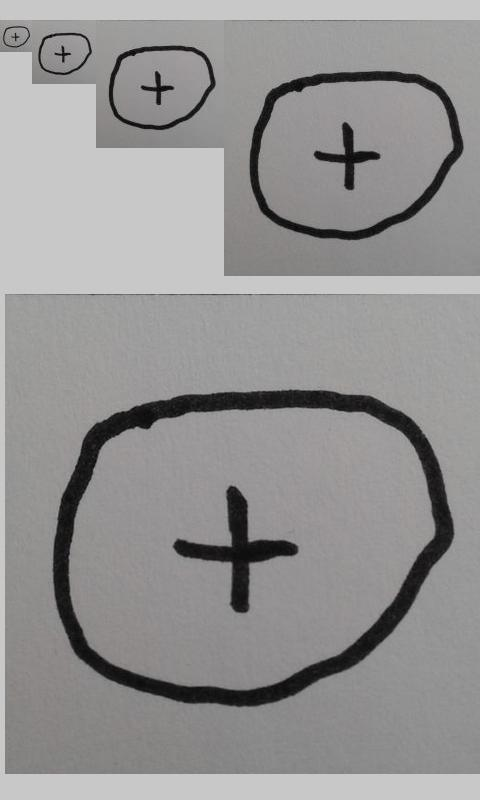button: (52, 387, 454, 707), (248, 70, 464, 240), (108, 45, 216, 130), (37, 32, 93, 75), (2, 25, 30, 48)
